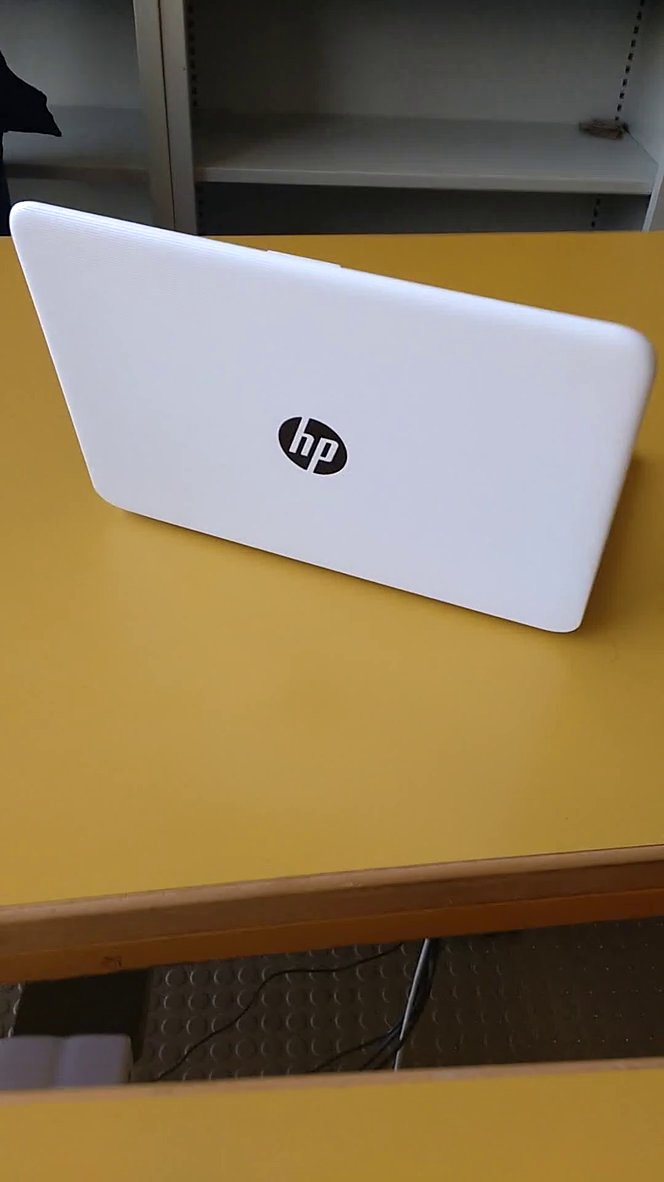laptop: (2, 184, 663, 652)
